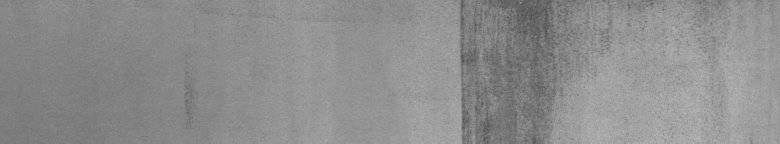ka: (455, 4, 666, 136)
